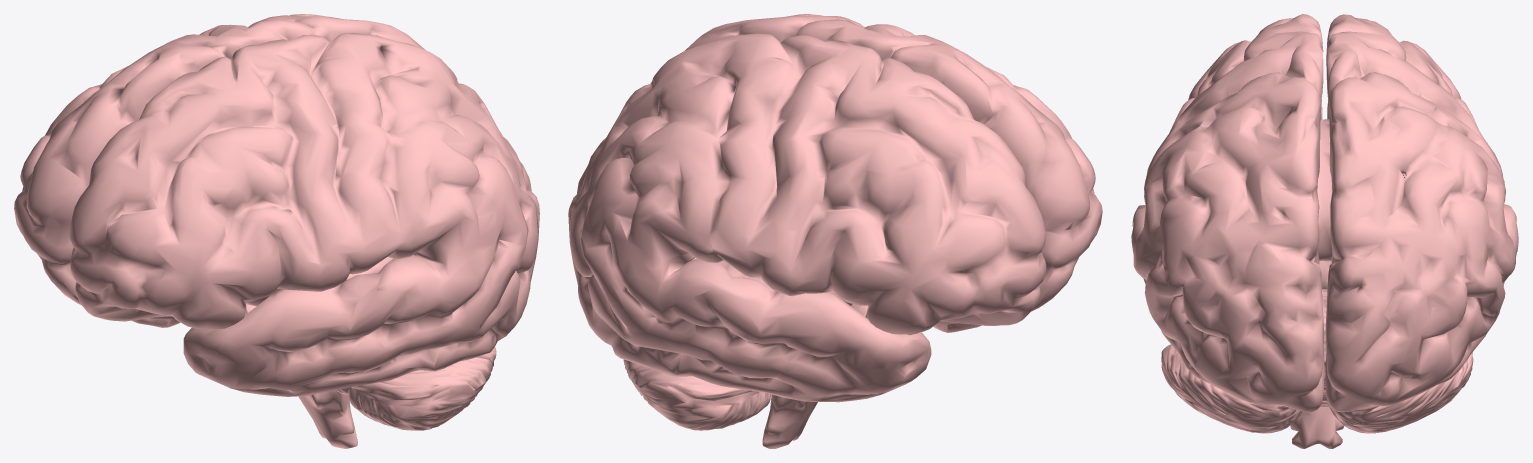
File: brain-simple-mesh.obj
3 renders of one model, left to right at view 1: azimuth 30°, elevation 25°; view 2: azimuth 150°, elevation 25°; view 3: azimuth 270°, elevation 25°, orthographic. The views are drawn at different scales.
Visible parts, largest first — view 1: default; view 2: default; view 3: default.
Boxes of the visible parts, box(x1,y1,x2,y2) form: default: box(14, 14, 539, 448); default: box(568, 14, 1102, 448); default: box(1131, 14, 1518, 448).
Size of the model in its own units: 6.4 by 5.61 by 5.29.
